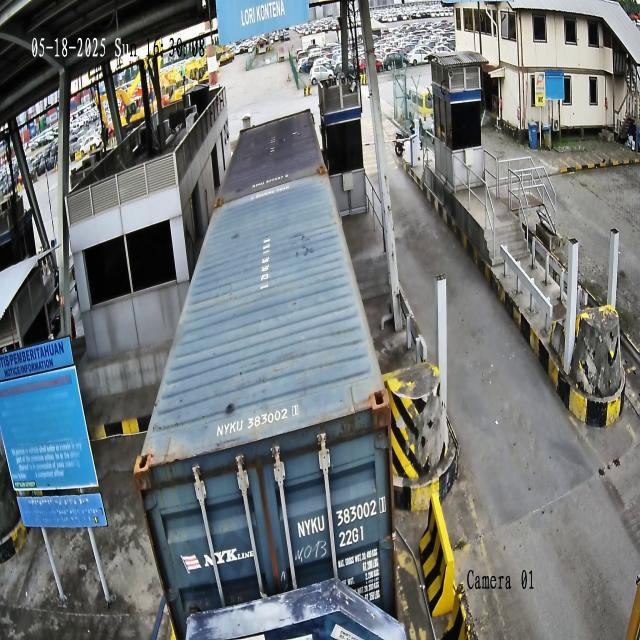ISO: (338, 524, 364, 550)
container_number: (296, 496, 386, 544)
